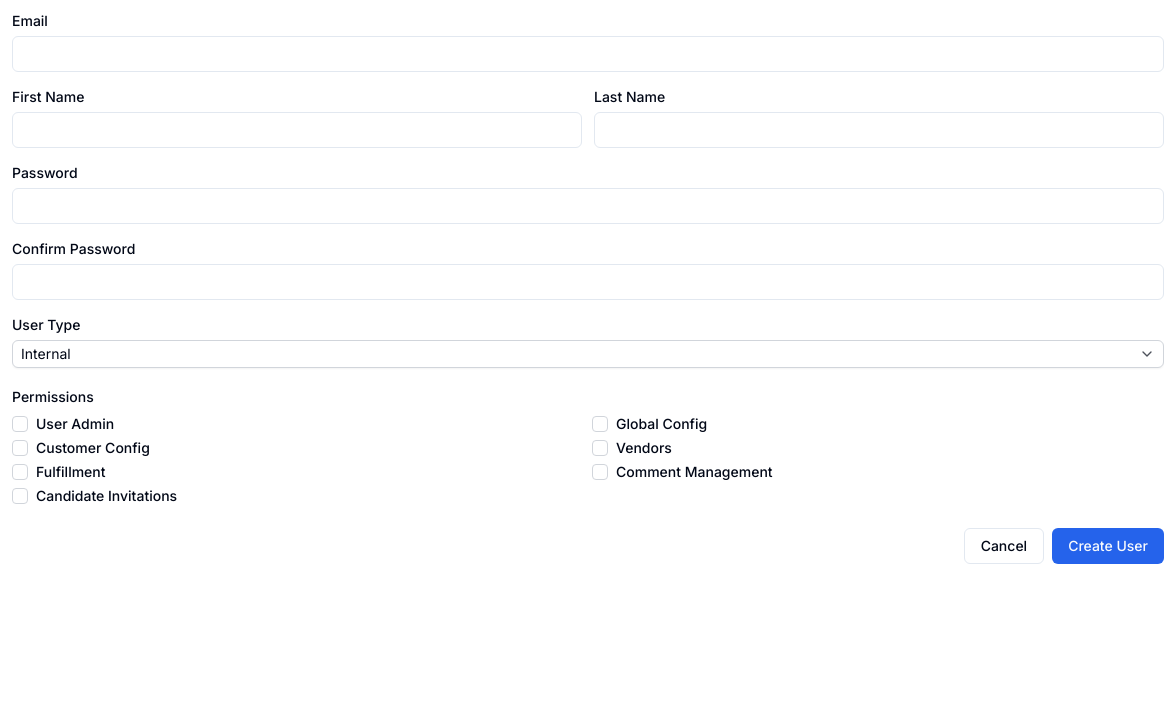
Test case: UserForm › Customer API Response Handling › should not affect vendor user type (no customer dropdown)
Note: Select vendor type
What coordinates should you click on to do the following:
click the dropdown named "user type"
I would click on:
 (46, 354)
Its box is [12,340,1164,368].
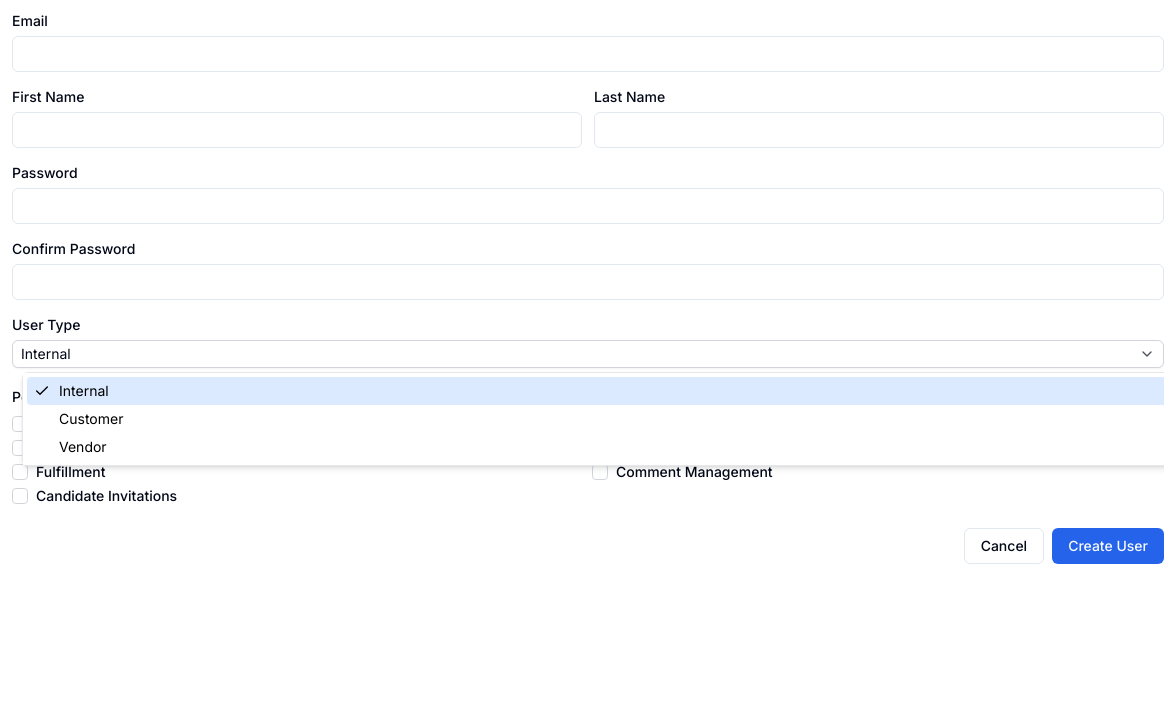
What coordinates should you click on to do the following:
click the option "Vendor"
I would click on:
 (83, 446)
Its box is [59,438,107,455].
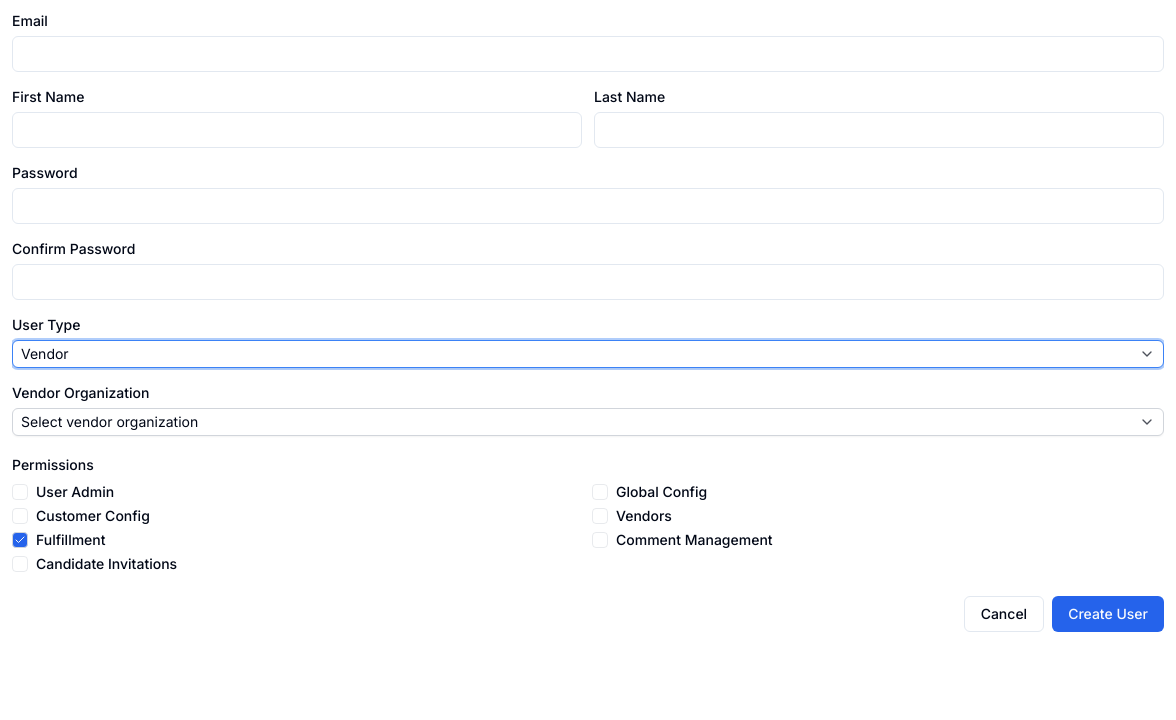
Now the text "Vendor Organization" is shown, box [12,384,150,401]
